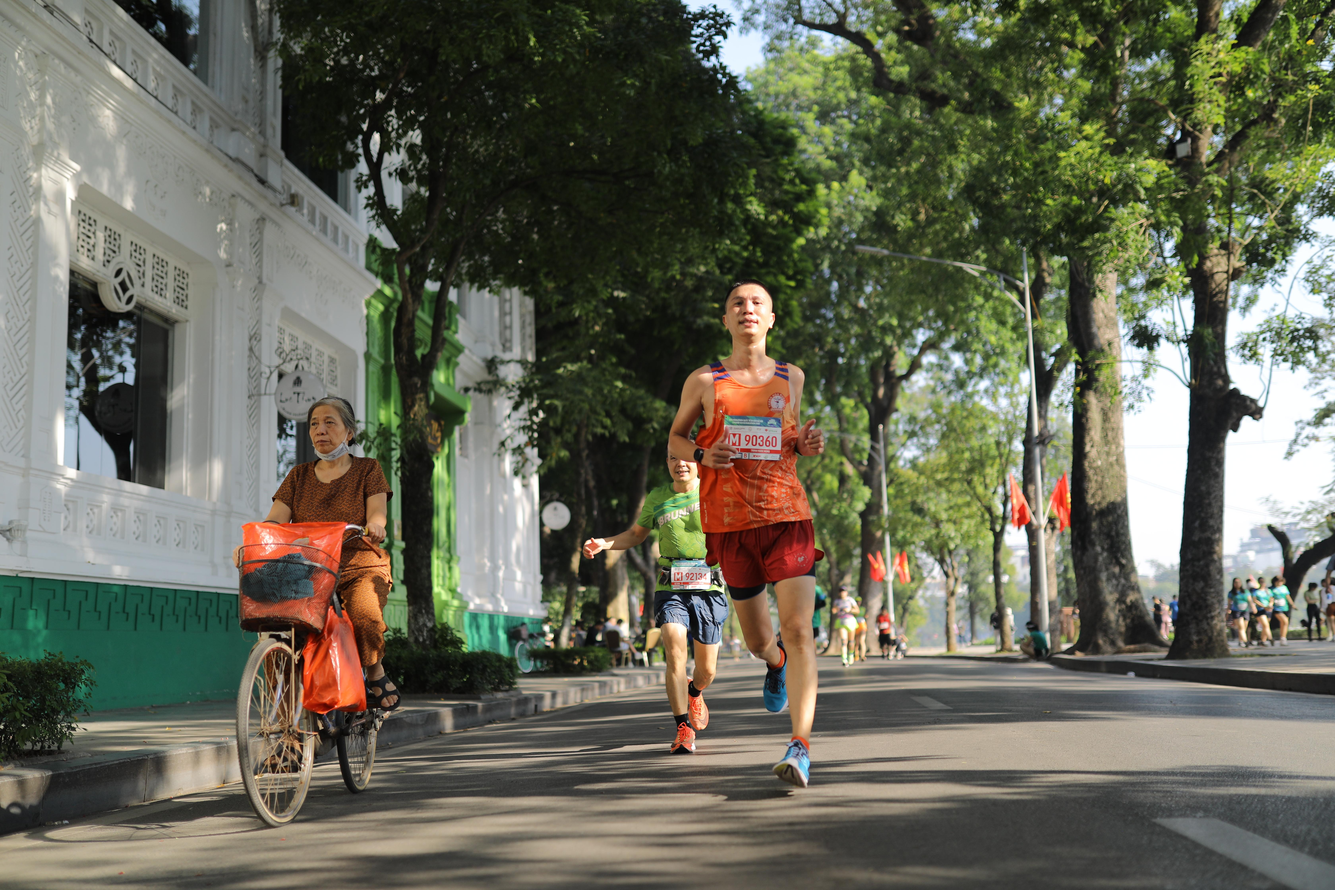bib: (723, 414, 781, 460), (671, 559, 710, 590)
